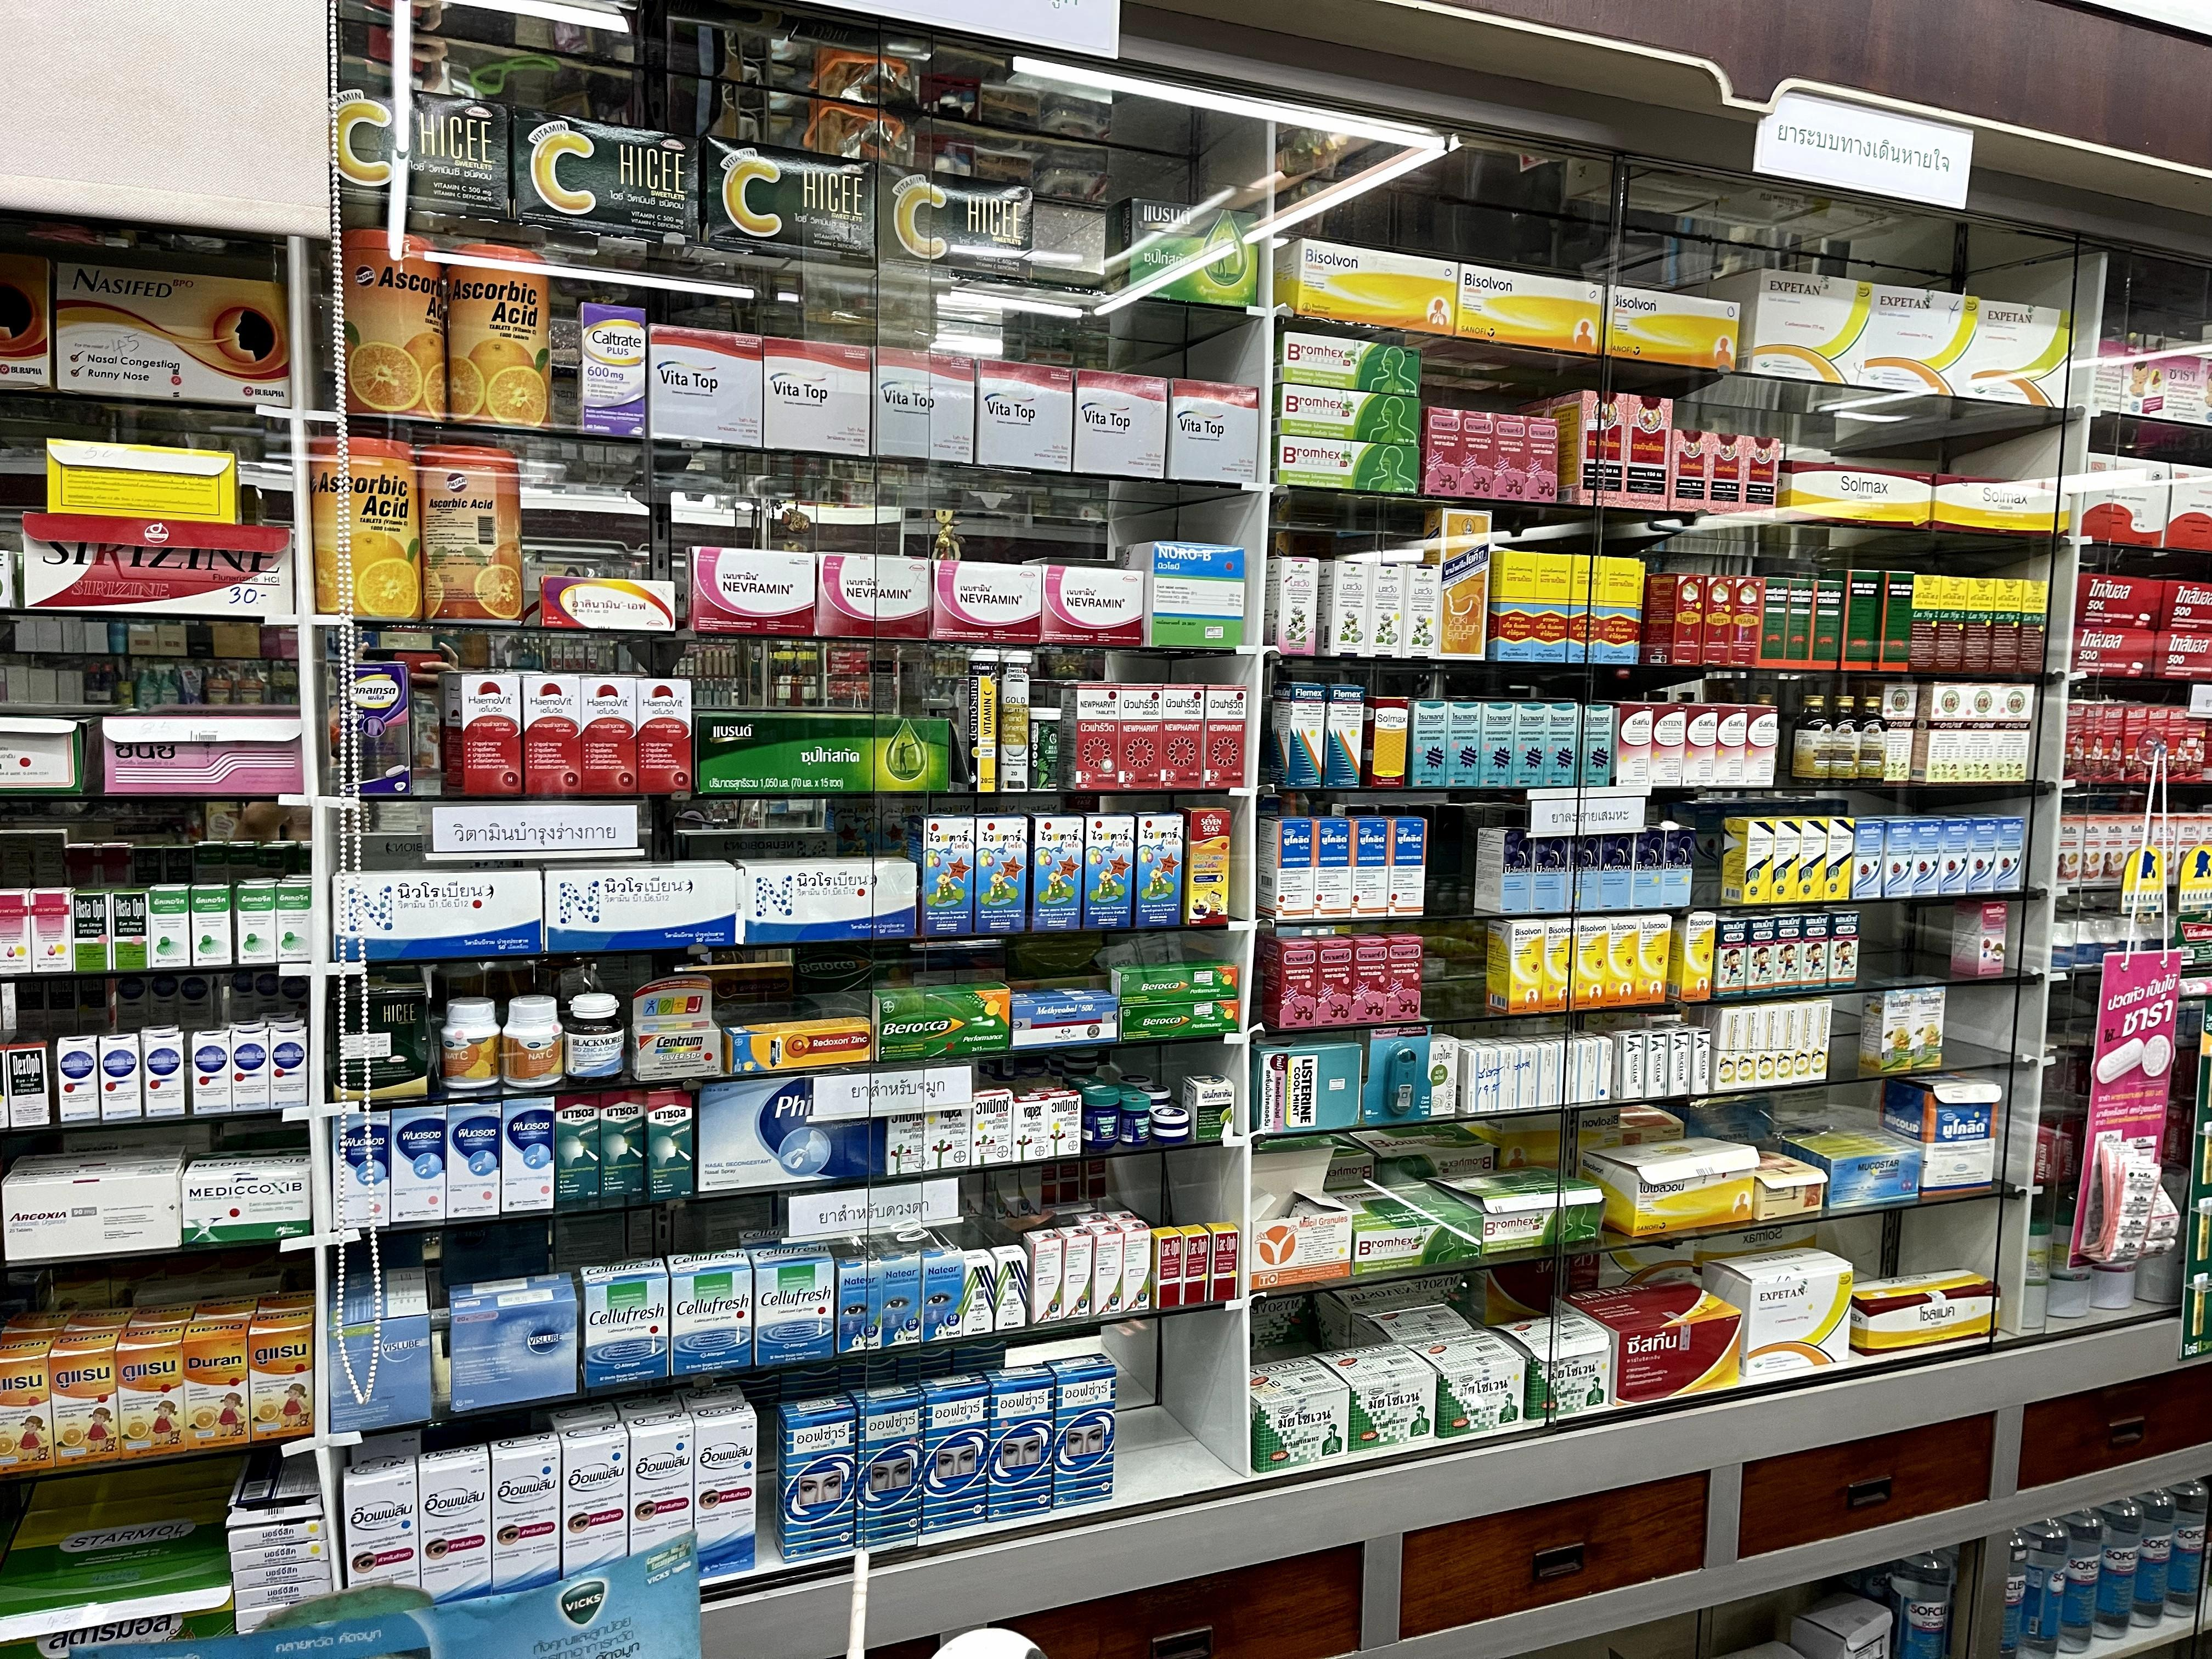Allergis: (150, 885, 192, 965), (192, 885, 233, 965), (237, 884, 277, 964), (275, 882, 314, 962)
Black-Tiger: (1811, 579, 1844, 671), (1759, 577, 1791, 667), (1787, 577, 1815, 669)
Black-Tiger_Big: (1839, 568, 1879, 671), (1878, 570, 1912, 669)
Cisteine: (1615, 701, 1651, 786), (1649, 702, 1684, 788), (1683, 704, 1717, 788), (1745, 704, 1778, 789), (1716, 702, 1747, 786)
Cisteine_Box: (1559, 1279, 1743, 1396)
Grafadex: (30, 889, 73, 971), (0, 889, 31, 972)
Heamovit: (460, 674, 523, 795), (521, 674, 582, 793), (636, 676, 693, 793), (582, 676, 637, 793)
Iyara: (1648, 573, 1702, 666), (1700, 575, 1735, 667), (1731, 575, 1766, 666)
Lac-Oph_Red: (1151, 1229, 1183, 1309), (1209, 1223, 1240, 1302), (1181, 1225, 1209, 1304)
Ma-Kham-Pom: (1489, 551, 1534, 659), (1568, 554, 1606, 664), (1533, 551, 1569, 664), (1602, 554, 1639, 664)
Ma-Kham-Pom_Bottle: (1791, 695, 1832, 788), (1831, 697, 1860, 786), (1858, 694, 1886, 786)
Ma-Vaeng_Light: (1266, 558, 1317, 657)
Ma-Vaeng_Syrup: (1318, 558, 1369, 657), (1402, 561, 1440, 659), (1367, 563, 1406, 659)
Muclear: (1613, 1030, 1641, 1098), (1642, 1028, 1669, 1098), (1665, 1028, 1691, 1096), (1689, 1026, 1710, 1094)
Mucolax: (1477, 828, 1531, 913), (1529, 828, 1569, 911), (1601, 826, 1635, 910), (1662, 824, 1695, 906), (1569, 828, 1601, 913), (1632, 828, 1665, 908)
Nac-Long: (1460, 1046, 1489, 1112), (1588, 1035, 1613, 1101), (1569, 1037, 1592, 1105), (1514, 1042, 1536, 1108), (1491, 1046, 1512, 1114), (1536, 1040, 1555, 1108), (1554, 1040, 1573, 1103)
NatC: (502, 995, 563, 1086), (442, 999, 500, 1087)
Nevramin: (690, 547, 815, 638), (815, 551, 932, 640), (932, 558, 1042, 645), (1042, 566, 1144, 645)
Newpharvit: (1064, 683, 1120, 791), (1202, 683, 1245, 789), (1120, 683, 1162, 789), (1162, 685, 1204, 789)
Opplin: (559, 1424, 632, 1579), (693, 1403, 758, 1579), (491, 1432, 563, 1589), (418, 1450, 493, 1598), (343, 1464, 421, 1595), (629, 1413, 693, 1553)
Opsar: (779, 1392, 855, 1558), (853, 1380, 923, 1544), (1049, 1354, 1115, 1509), (921, 1375, 988, 1528), (988, 1364, 1052, 1516)
Pei-Pa-Koa: (1670, 429, 1709, 512), (1745, 434, 1780, 523), (1709, 434, 1743, 516)
Pei-Pa-Koa_Big: (1559, 390, 1627, 507), (1625, 394, 1674, 512)
Rhinalax: (1444, 699, 1480, 788), (1411, 699, 1446, 788), (1480, 699, 1515, 788), (1512, 701, 1545, 788), (1545, 701, 1578, 788), (1578, 702, 1611, 786)
Rhinalax-B: (1268, 934, 1318, 1028), (1425, 406, 1461, 498), (1315, 934, 1352, 1025), (1385, 932, 1421, 1021), (1460, 410, 1494, 500), (1524, 416, 1559, 504), (1353, 934, 1386, 1025), (1494, 413, 1526, 498)
Solmax: (1366, 695, 1407, 788)
Solmax-Capsule: (1851, 1270, 2001, 1354), (1784, 460, 1933, 530), (1932, 472, 2073, 540)
VapoRub_Big: (1082, 1086, 1120, 1148)
VapoRub_Mid: (1120, 1093, 1151, 1143)
VapoRub_Small: (1151, 1107, 1191, 1127), (1151, 1124, 1191, 1143), (1139, 1084, 1172, 1103), (1120, 1072, 1153, 1087)
Vislube20: (451, 1284, 578, 1406), (449, 1272, 573, 1297)
Vislube60: (331, 1272, 432, 1425)
